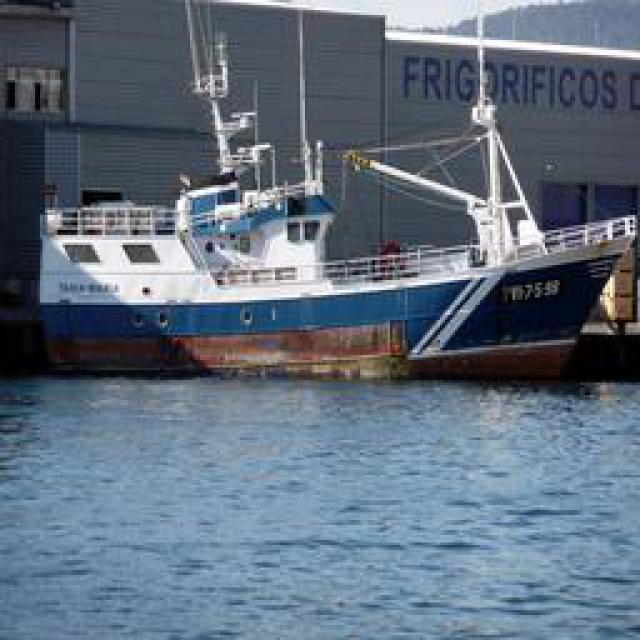Ship: (20, 35, 633, 388)
